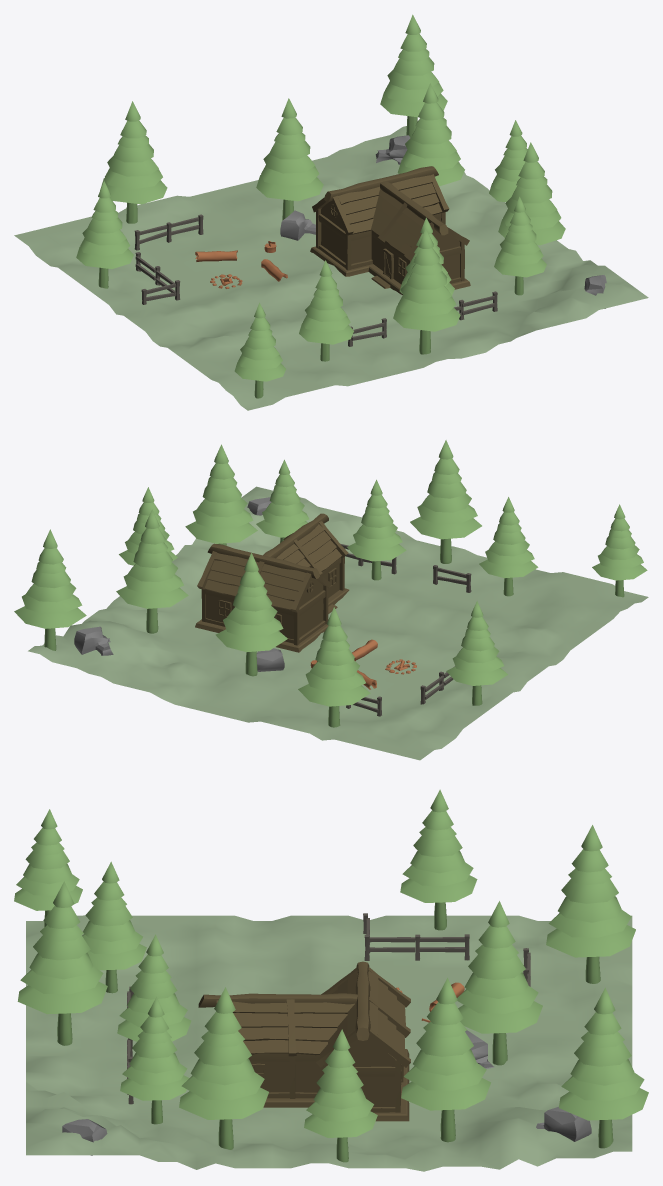
The picture shows the model from 3 angles, top to bottom: view 1: azimuth 30°, elevation 25°; view 2: azimuth 150°, elevation 25°; view 3: azimuth 270°, elevation 25°; orthographic projection. The views are drawn at different scales.
Visible parts, largest first — view 1: Floor, polySurface81, polySurface76, polySurface70, polySurface20, polySurface74, polySurface73, polySurface71, polySurface79, polySurface78, polySurface75, polySurface80 (+4 smaller); view 2: Floor, polySurface81, polySurface73, polySurface70, polySurface76, polySurface74, polySurface20, polySurface71, polySurface79, polySurface77, polySurface78, polySurface80 (+4 smaller); view 3: Floor, polySurface81, polySurface73, polySurface76, polySurface71, polySurface74, polySurface20, polySurface70, polySurface79, polySurface72, polySurface78, polySurface75 (+4 smaller).
Boxes of the visible parts, x1,y1,x2,y2 form: Floor: (14,126,648,410); polySurface81: (310,166,470,294); polySurface76: (393,228,460,354); polySurface70: (256,98,323,220); polySurface20: (100,101,167,223); polySurface74: (380,14,447,137); polySurface73: (397,83,464,186); polySurface71: (498,142,565,245); polySurface79: (76,181,133,288); polySurface78: (299,260,353,361); polySurface75: (494,196,546,295); polySurface80: (234,302,285,398); Floor: (28,486,648,760); polySurface81: (195,513,349,652); polySurface73: (116,509,188,633); polySurface70: (215,552,287,676); polySurface76: (410,440,481,563); polySurface74: (14,529,86,650); polySurface20: (298,607,370,727); polySurface71: (185,444,257,545); polySurface79: (446,601,507,705); polySurface77: (347,479,406,580); polySurface78: (479,497,538,596); polySurface80: (592,504,647,597); Floor: (26,915,632,1171); polySurface81: (198,961,410,1121); polySurface73: (401,977,490,1142); polySurface76: (17,881,107,1045); polySurface71: (179,987,268,1149); polySurface74: (559,987,648,1148); polySurface20: (546,825,635,983); polySurface70: (457,901,542,1065); polySurface79: (400,789,477,930); polySurface72: (304,1029,377,1162); polySurface78: (82,861,146,993); polySurface75: (120,996,189,1124).
Bounding box in the file's own units: 25.66 × 8.14 × 25.41.
